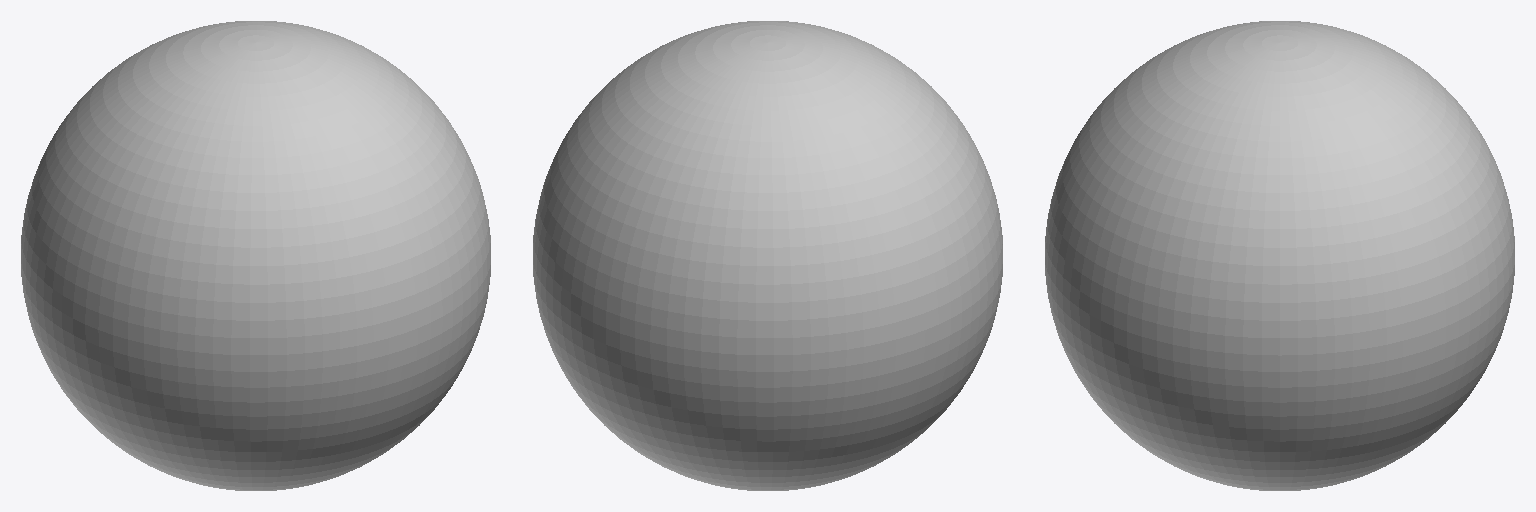
File: Moon.obj
3 renders of one model, left to right at view 1: azimuth 30°, elevation 25°; view 2: azimuth 150°, elevation 25°; view 3: azimuth 270°, elevation 25°, orthographic.
Parts seen in each view (by area): view 1: Mars; view 2: Mars; view 3: Mars.
Part boxes in pixels (x1,y1,x2,y2): Mars: (21, 21, 490, 490); Mars: (533, 21, 1002, 490); Mars: (1045, 21, 1514, 490).
Size of the model in its own units: 8.32 by 8.32 by 8.32.